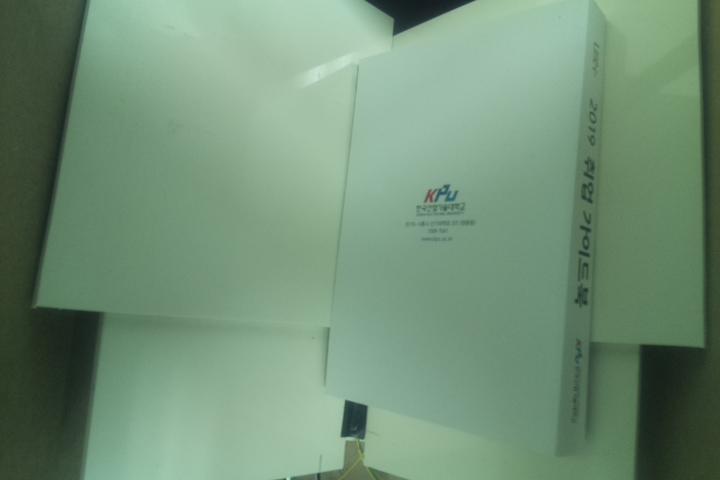book: (320, 1, 609, 460)
